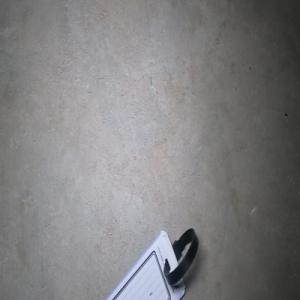LuggageTag: (103, 226, 199, 300)
